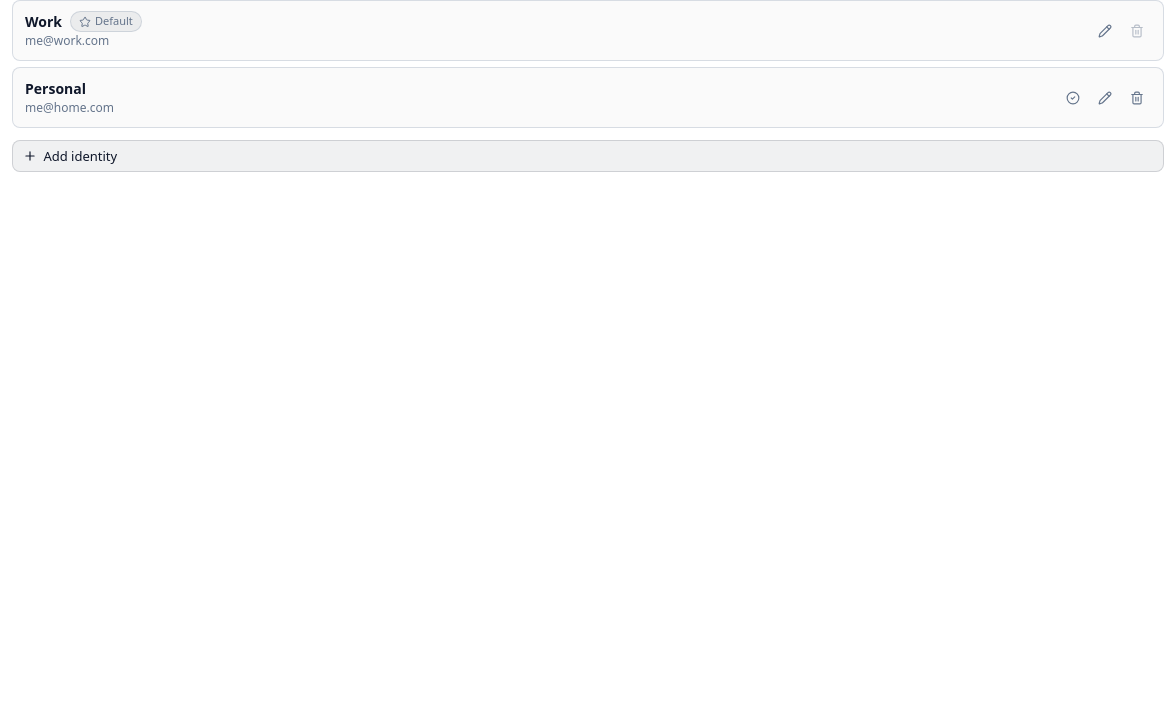
Scenario: IdentitiesTab › save is disabled while required fields are empty
Click the button with test id "identities-add". click: (80, 156)
box: [12,140,1164,172]
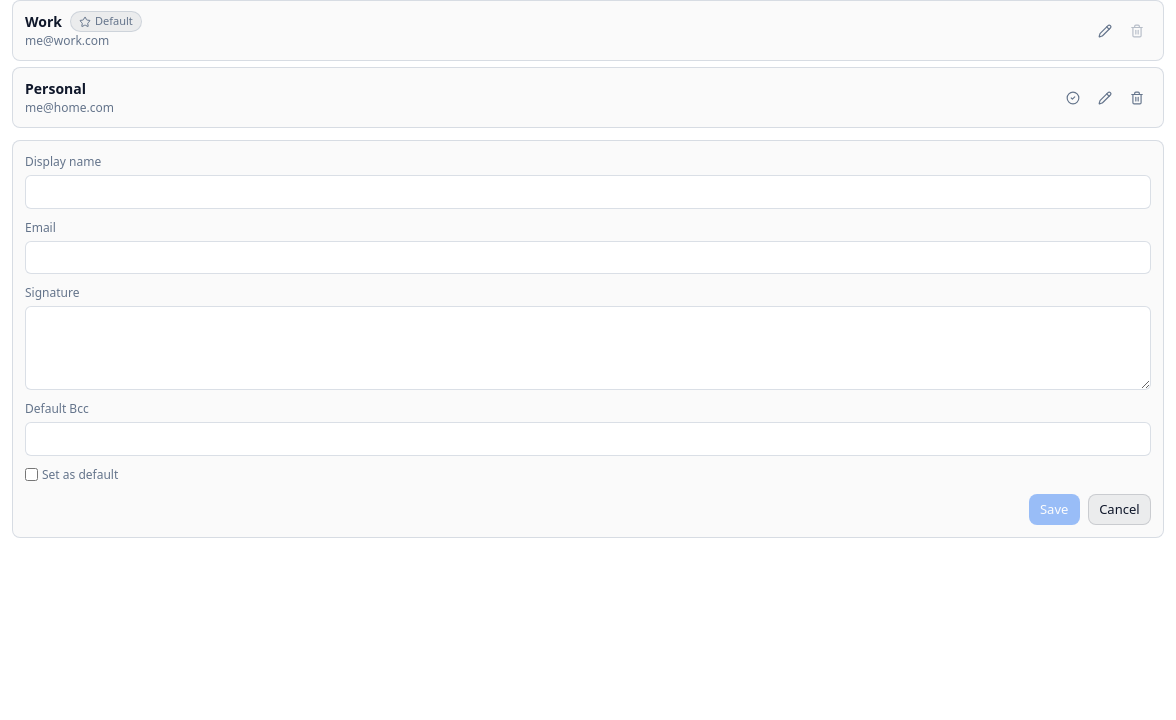
Expected: the button with test id "identities-editor-save" is disabled, [1029,494,1080,525]
Type "Foo" into the field with test id "identities-editor-displayName". click: (588, 192)
box: [25,175,1151,208]
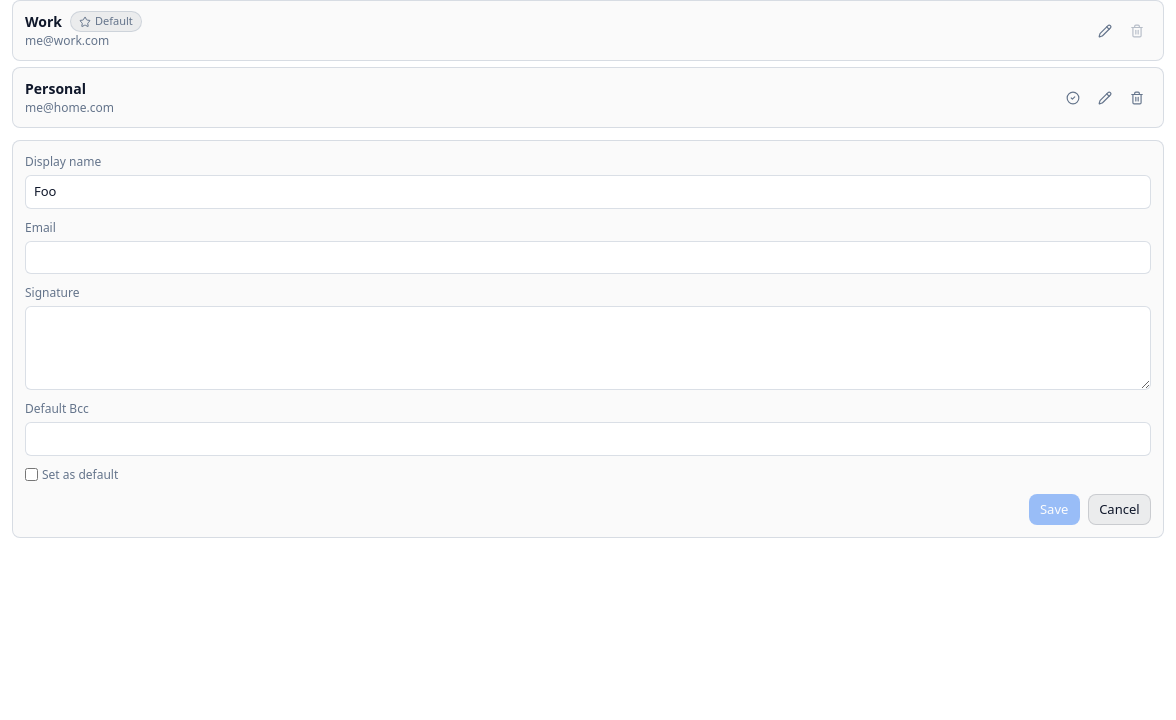
Expected: the button with test id "identities-editor-save" is disabled, [1029,494,1080,525]
Type "a@b.c" into the field with test id "identities-editor-email". click: (588, 257)
box: [25,240,1151,274]
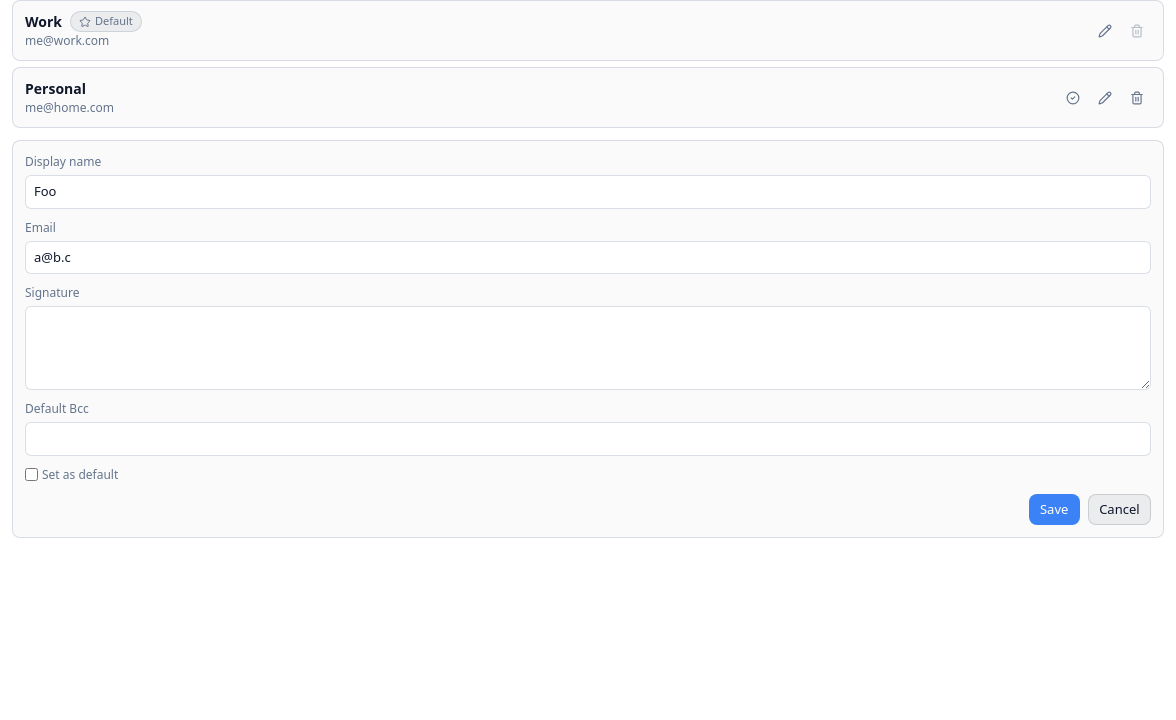
Expected: the button with test id "identities-editor-save" is enabled, [1029,494,1080,525]
